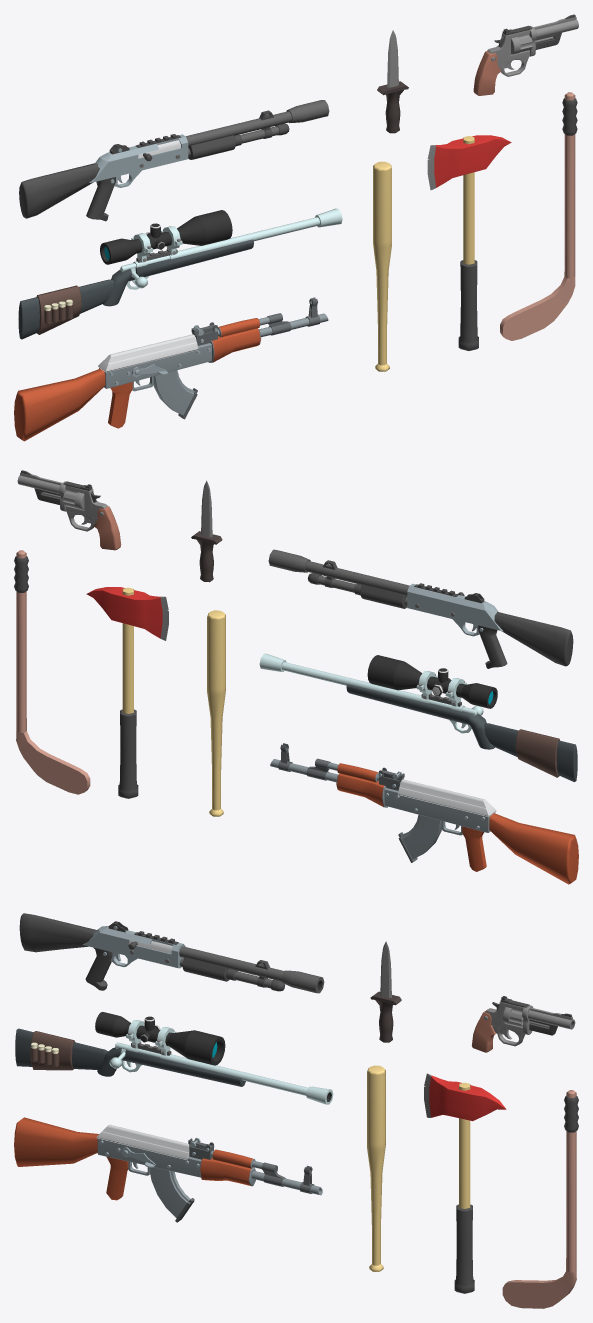
File: Weapons_FREE.glb
3 renders of one model, top to bottom at view 1: azimuth 30°, elevation 25°; view 2: azimuth 150°, elevation 25°; view 3: azimuth 330°, elevation 25°, orthographic.
Visible parts, largest first — view 1: rifle_001, shotgun_001, sniper_rifle_001, axe_001, hockey_stick_001, sight_001, pistol_001, baseball_bat_001, knife_001, rifle_magazine_001, shotgun_handguard_001; view 2: rifle_001, shotgun_001, sniper_rifle_001, axe_001, hockey_stick_001, sight_001, baseball_bat_001, pistol_001, knife_001, rifle_magazine_001, shotgun_handguard_001; view 3: rifle_001, shotgun_001, sniper_rifle_001, axe_001, hockey_stick_001, sight_001, baseball_bat_001, pistol_001, knife_001, rifle_magazine_001, shotgun_handguard_001.
Part boxes in pixels (bbox=[...]): rifle_001: bbox=[14, 297, 328, 441]; shotgun_001: bbox=[19, 100, 329, 221]; sniper_rifle_001: bbox=[18, 208, 342, 339]; axe_001: bbox=[427, 135, 511, 350]; hockey_stick_001: bbox=[500, 92, 577, 340]; sight_001: bbox=[100, 210, 232, 264]; pistol_001: bbox=[473, 14, 578, 95]; baseball_bat_001: bbox=[373, 161, 391, 371]; knife_001: bbox=[377, 30, 408, 133]; rifle_magazine_001: bbox=[153, 370, 197, 419]; shotgun_handguard_001: bbox=[188, 134, 242, 159]; rifle_001: bbox=[270, 743, 578, 884]; shotgun_001: bbox=[268, 549, 573, 668]; sniper_rifle_001: bbox=[259, 653, 577, 781]; axe_001: bbox=[86, 587, 168, 798]; hockey_stick_001: bbox=[14, 550, 90, 794]; sight_001: bbox=[367, 655, 497, 708]; baseball_bat_001: bbox=[207, 610, 225, 816]; pistol_001: bbox=[17, 470, 121, 550]; knife_001: bbox=[191, 480, 222, 582]; rifle_magazine_001: bbox=[398, 814, 441, 862]; shotgun_handguard_001: bbox=[354, 584, 407, 608]; rifle_001: bbox=[14, 1117, 322, 1200]; shotgun_001: bbox=[19, 913, 324, 993]; sniper_rifle_001: bbox=[15, 1028, 333, 1104]; axe_001: bbox=[424, 1073, 506, 1293]; hockey_stick_001: bbox=[502, 1090, 578, 1308]; sight_001: bbox=[95, 1012, 225, 1065]; baseball_bat_001: bbox=[367, 1065, 385, 1271]; pistol_001: bbox=[471, 996, 575, 1052]; knife_001: bbox=[370, 941, 401, 1042]; rifle_magazine_001: bbox=[149, 1167, 194, 1222]; shotgun_handguard_001: bbox=[182, 957, 237, 981].
Bounding box in the file's own units: 3.21 × 1.88 × 0.2462.
1 material, 1 textured.
